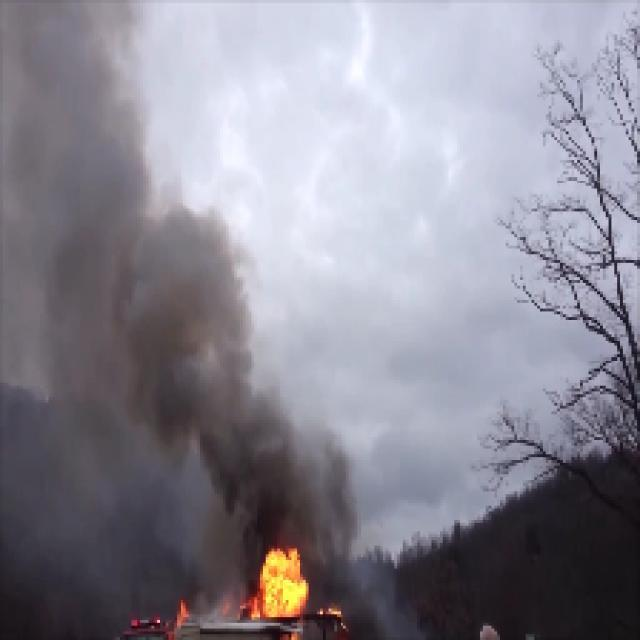Smoke: (18, 56, 138, 498), (155, 224, 250, 470)
